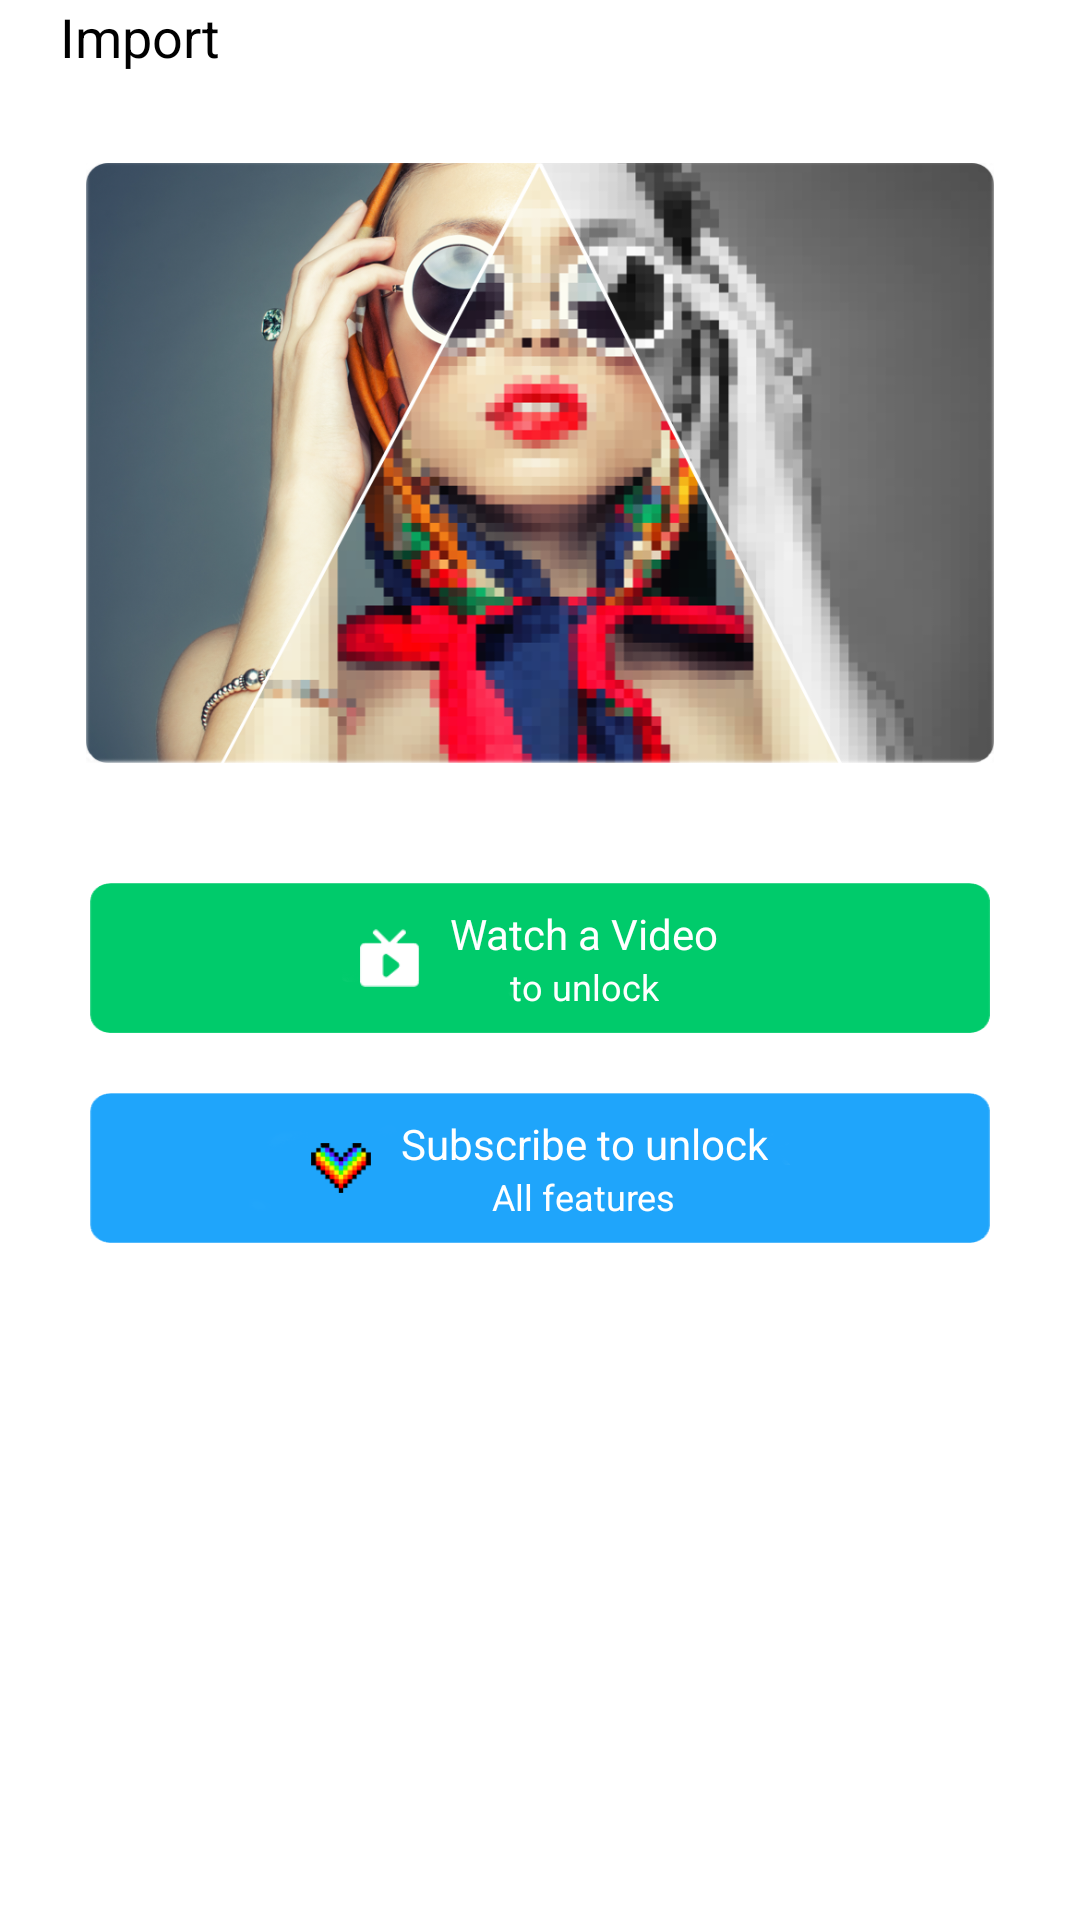

Where icons sit on this 1080px x 1920px app screen, as bbox(x1, y1, x2, y2):
heart shape: bbox(311, 1143, 371, 1193)
tv box: bbox(360, 929, 419, 987)
